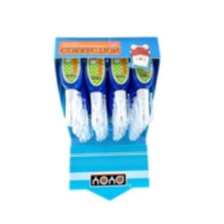book: (51, 34, 163, 201)
correction_fluid: (57, 39, 86, 127), (106, 39, 131, 129), (130, 39, 156, 125), (83, 38, 107, 129)
